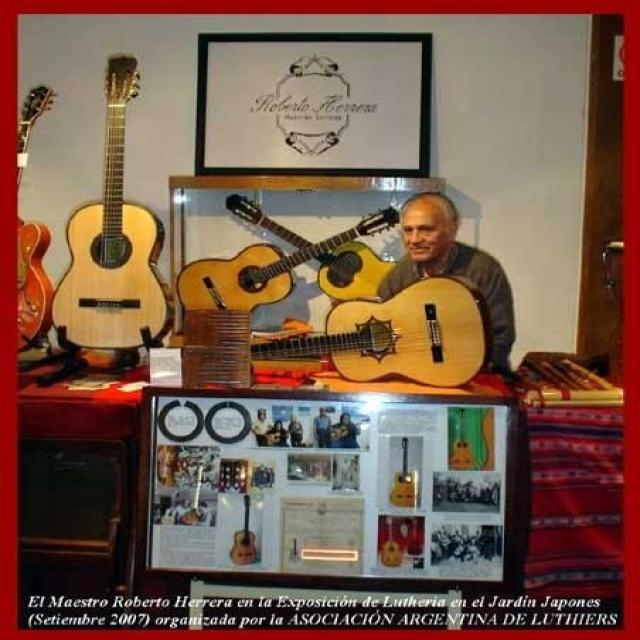guitar: (52, 54, 175, 350), (250, 275, 499, 387), (179, 202, 402, 320), (218, 192, 403, 299), (15, 79, 60, 355), (232, 492, 262, 570), (391, 439, 420, 504), (450, 409, 475, 471), (381, 516, 398, 568), (162, 490, 180, 526), (407, 518, 422, 555)
